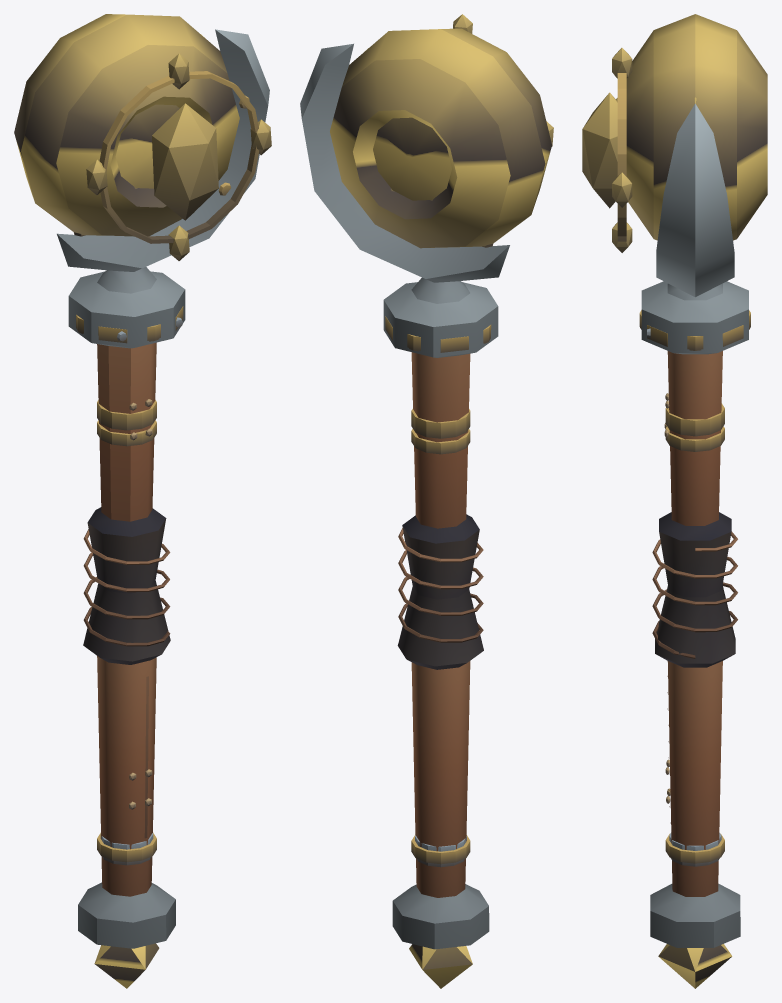
File: baston_runico_t4.glb
3 renders of one model, left to right at view 1: azimuth 30°, elevation 25°; view 2: azimuth 150°, elevation 25°; view 3: azimuth 270°, elevation 25°, orthographic.
Parts seen in each view (by area): view 1: baston_runico_t4_finished; view 2: baston_runico_t4_finished; view 3: baston_runico_t4_finished.
Part boxes in pixels (bbox=[...]): baston_runico_t4_finished: bbox=[14, 14, 271, 988]; baston_runico_t4_finished: bbox=[300, 14, 553, 988]; baston_runico_t4_finished: bbox=[582, 14, 767, 988].
Size of the model in its own units: 0.5762 by 2.15 by 0.3748.
2 materials, 2 textured.
